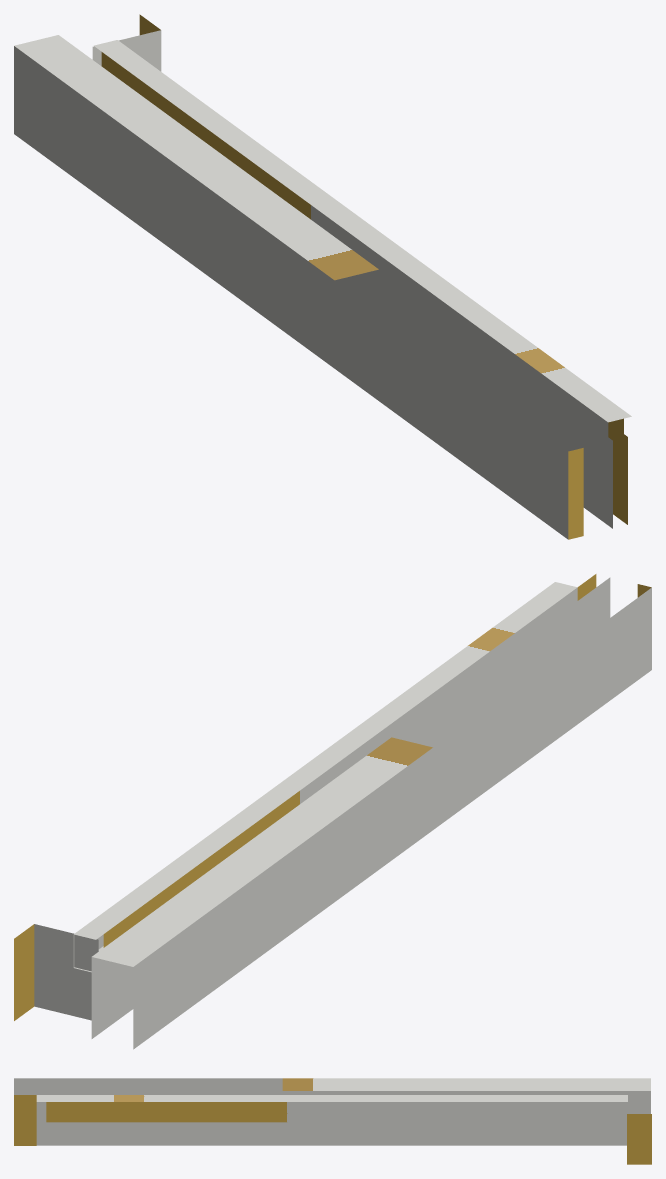
Rendered from section-12.obj.
The picture shows the model from 3 angles, top to bottom: view 1: azimuth 30°, elevation 25°; view 2: azimuth 150°, elevation 25°; view 3: azimuth 270°, elevation 25°; orthographic projection. The views are drawn at different scales.
Bounding box in the file's own units: 0.1697 × 0.1132 × 1.29.
